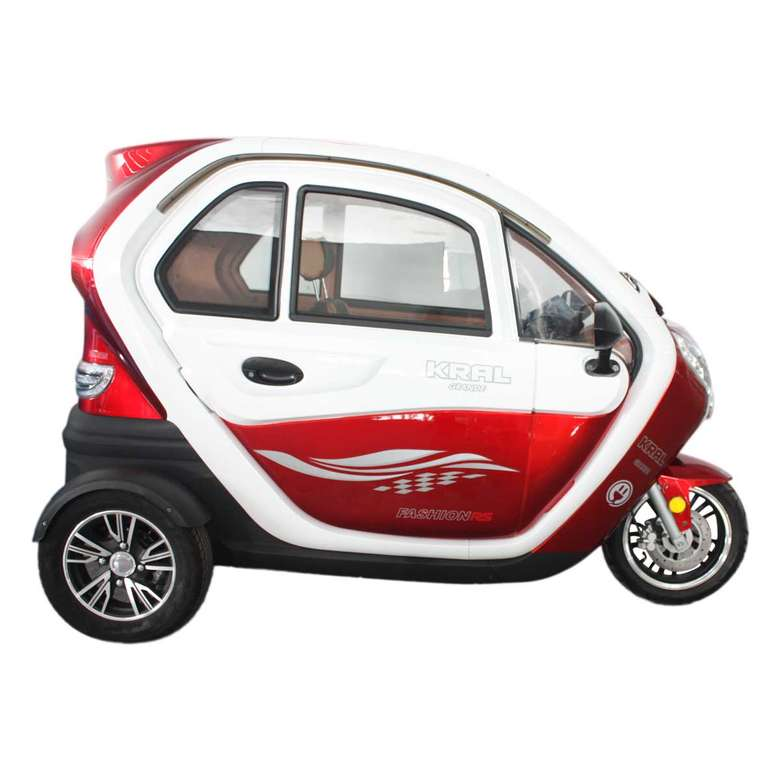ARABA: (26, 126, 750, 649)
